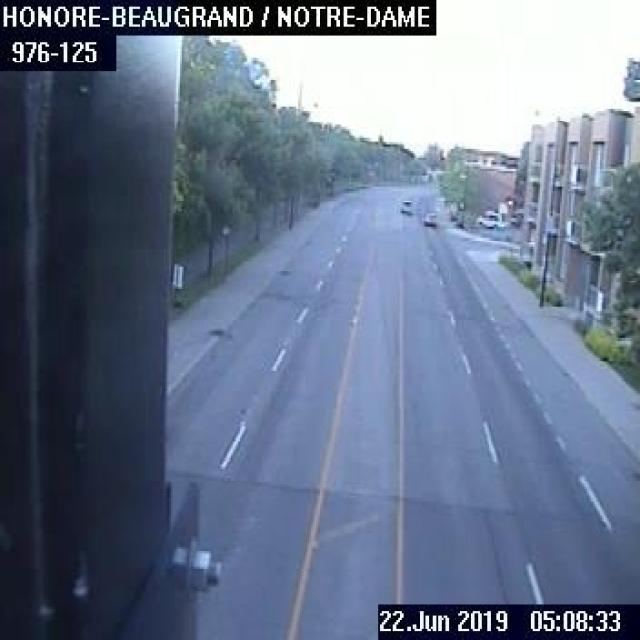vehicle: (474, 209, 506, 229), (399, 198, 413, 212), (422, 211, 436, 225)
